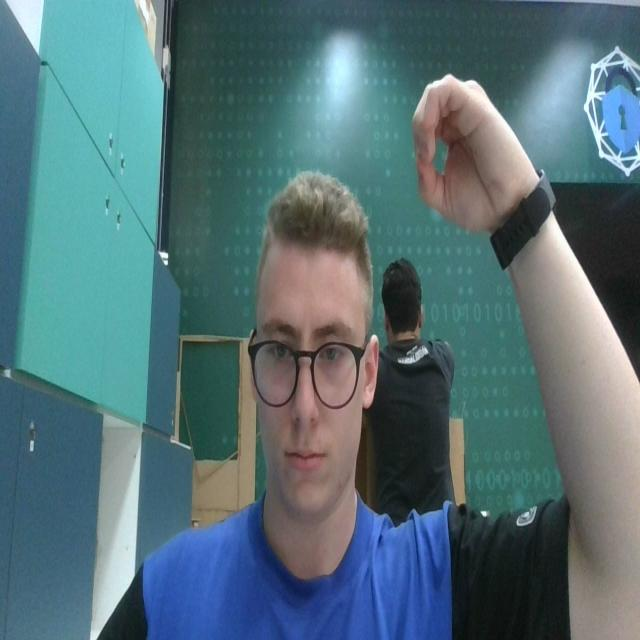O: (410, 68, 521, 231)
